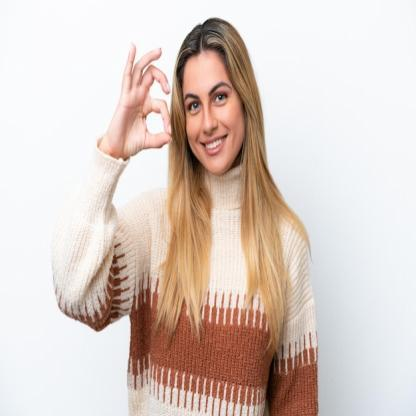ok: (110, 38, 174, 158)
